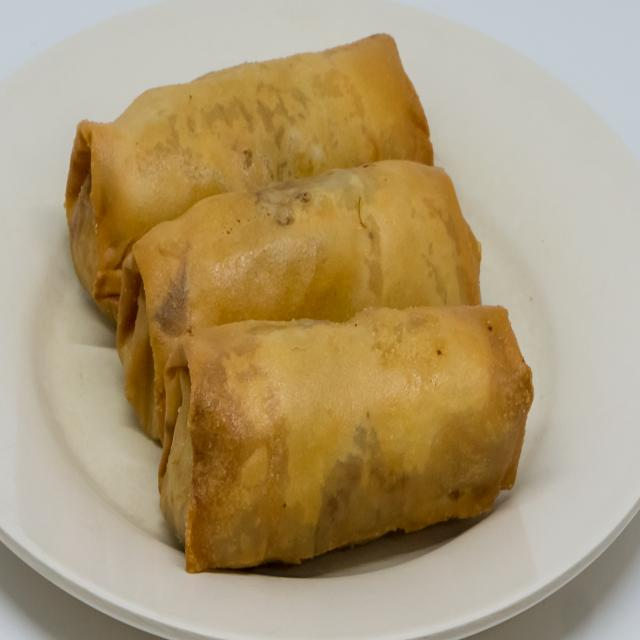Lumpia-Semarang: (41, 13, 546, 598)
